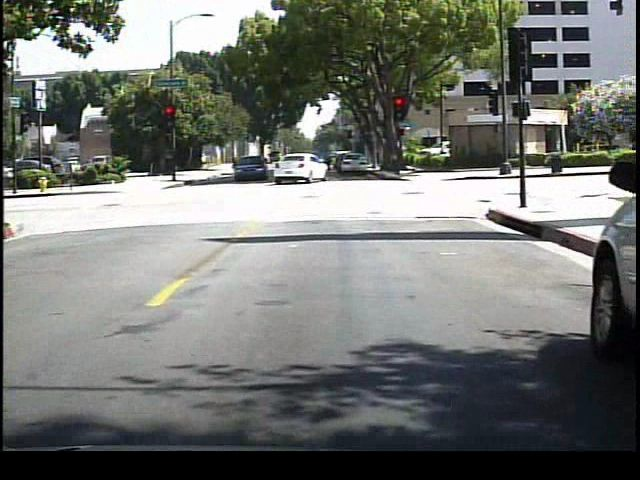person: (318, 145, 334, 181)
